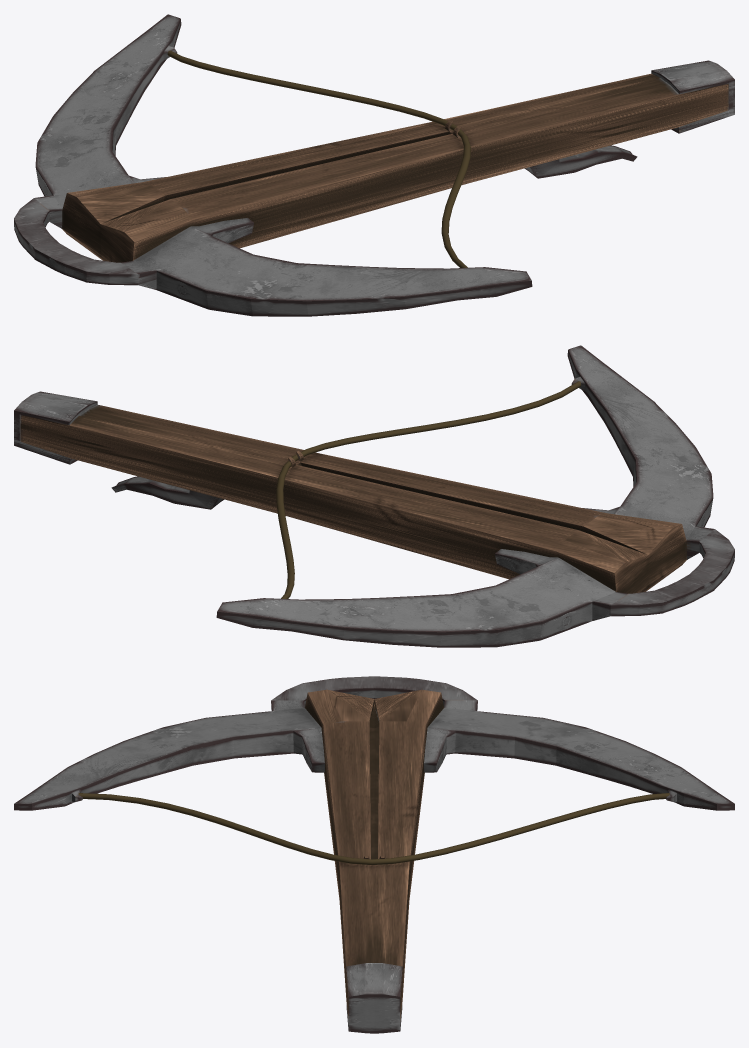
File: crossbow.fbx
3 views of the same model, one above another, from view 1: azimuth 30°, elevation 25°; view 2: azimuth 150°, elevation 25°; view 3: azimuth 270°, elevation 25° (orthographic).
Visible parts, largest first — view 1: crossbow_low, ip; view 2: crossbow_low, ip; view 3: crossbow_low, ip.
Part boxes in pixels (x1=…): crossbow_low: x1=14, y1=14, x2=734, y2=316; ip: x1=167, y1=50, x2=470, y2=267; crossbow_low: x1=14, y1=345, x2=734, y2=647; ip: x1=276, y1=381, x2=580, y2=598; crossbow_low: x1=14, y1=676, x2=734, y2=1033; ip: x1=78, y1=793, x2=669, y2=864.
Bounding box in the file's own units: 540 × 61.45 × 496.
Materials: 1 (1 with a texture image).
